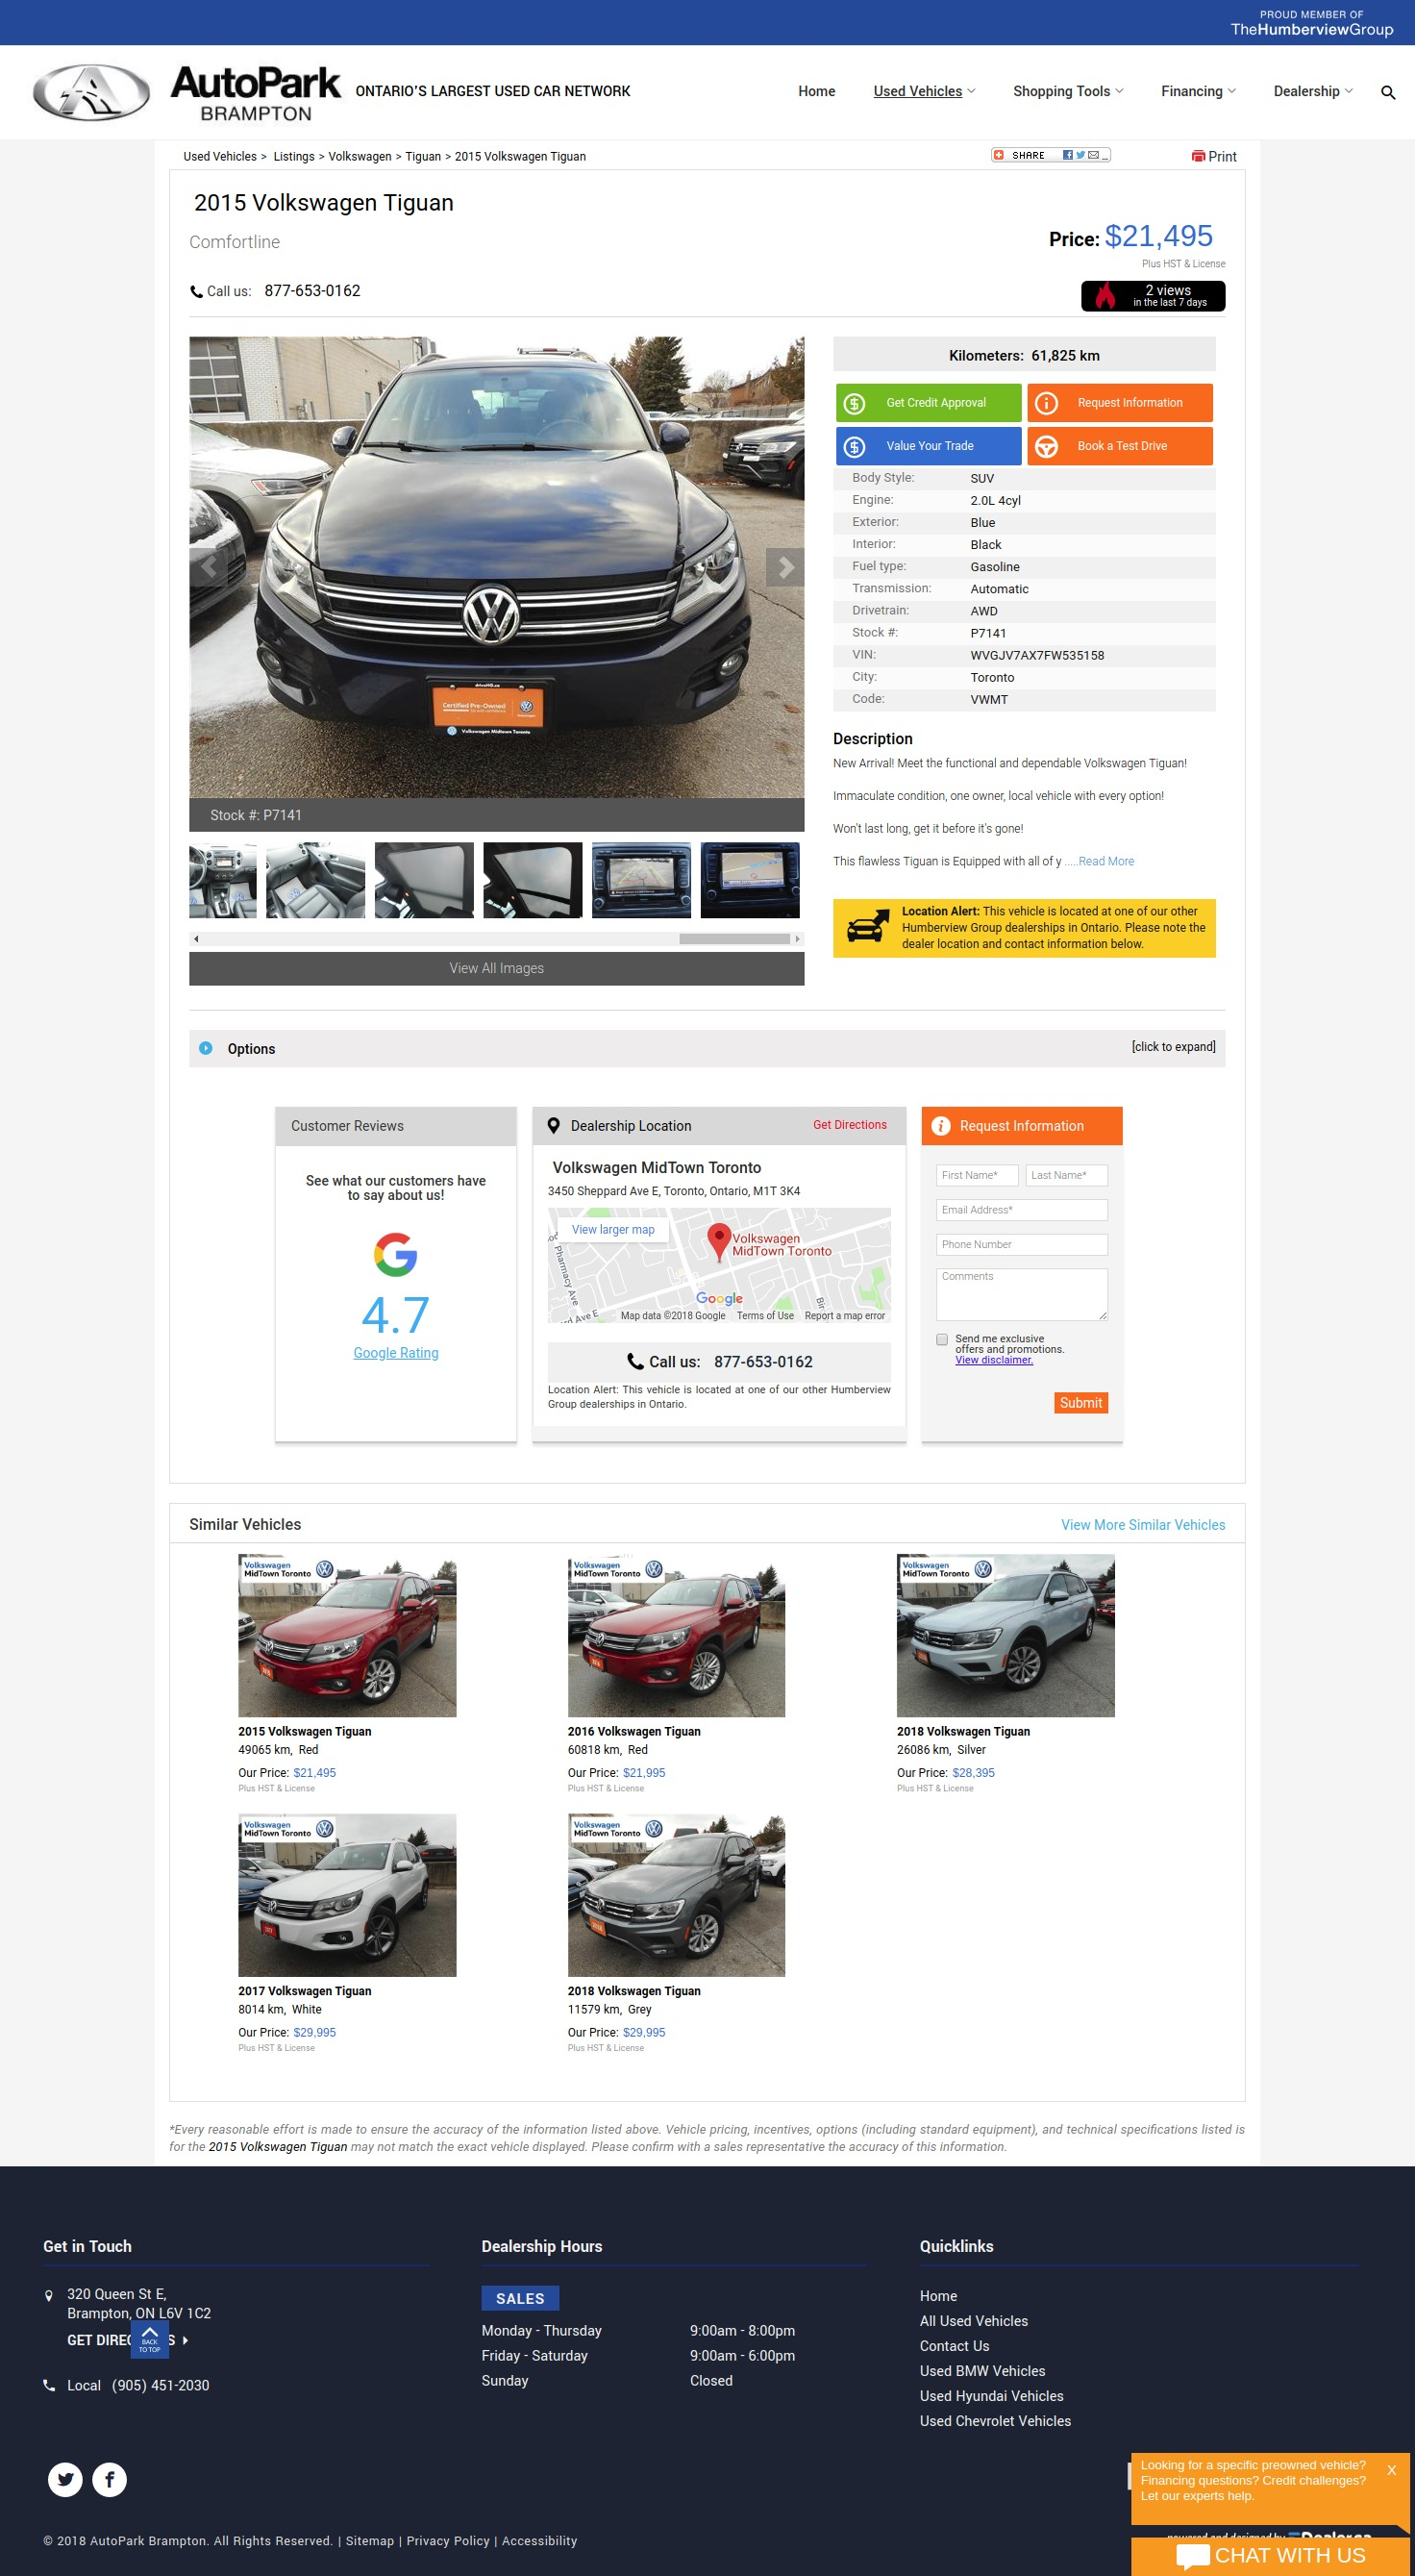car: (765, 547, 807, 589)
